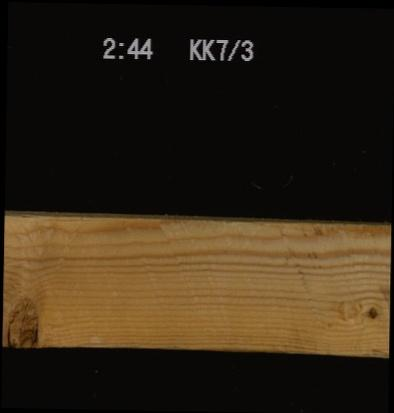dry_knot: (364, 300, 380, 322)
edge_knot: (2, 293, 40, 346)
